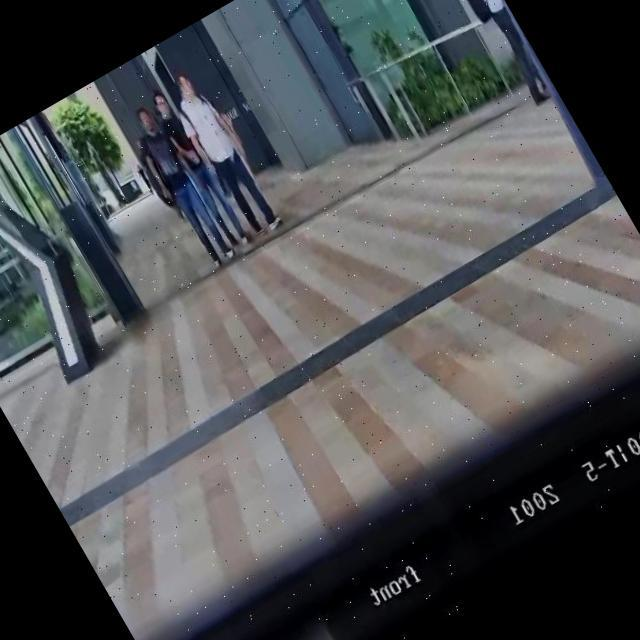person: (156, 59, 288, 244), (116, 100, 240, 276), (143, 84, 256, 253), (443, 0, 559, 106)
